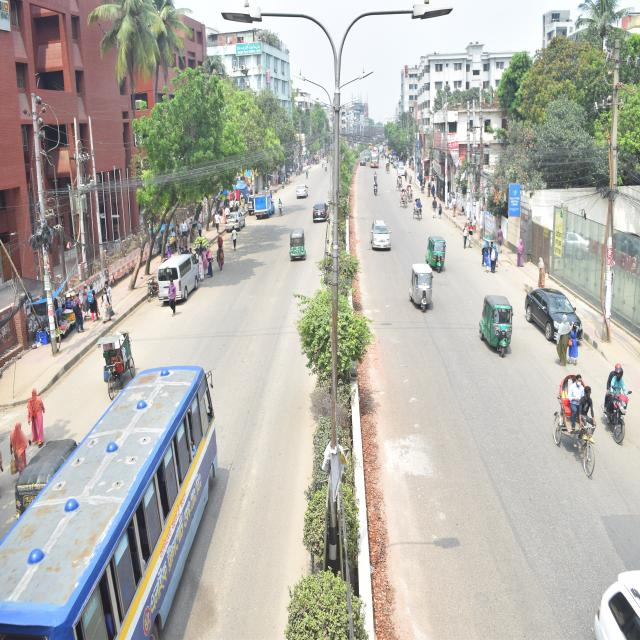bus: (0, 338, 256, 640), (367, 147, 383, 174)
car: (523, 277, 603, 369), (218, 205, 274, 246), (363, 202, 398, 266), (308, 195, 334, 233), (290, 178, 312, 209)
microbus: (142, 242, 231, 313)
motorbike: (366, 172, 386, 207)
pickup-van: (249, 189, 278, 230)
